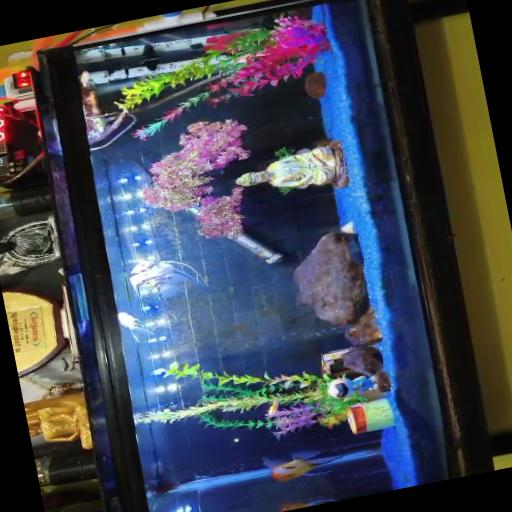Fish: (129, 258, 207, 295), (263, 449, 346, 480), (118, 311, 153, 342), (280, 498, 339, 511), (79, 71, 93, 86), (267, 400, 279, 415)
